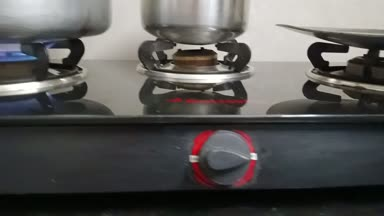flame_gas_off: (149, 33, 259, 187)
flame_gas_on: (1, 38, 83, 96)
